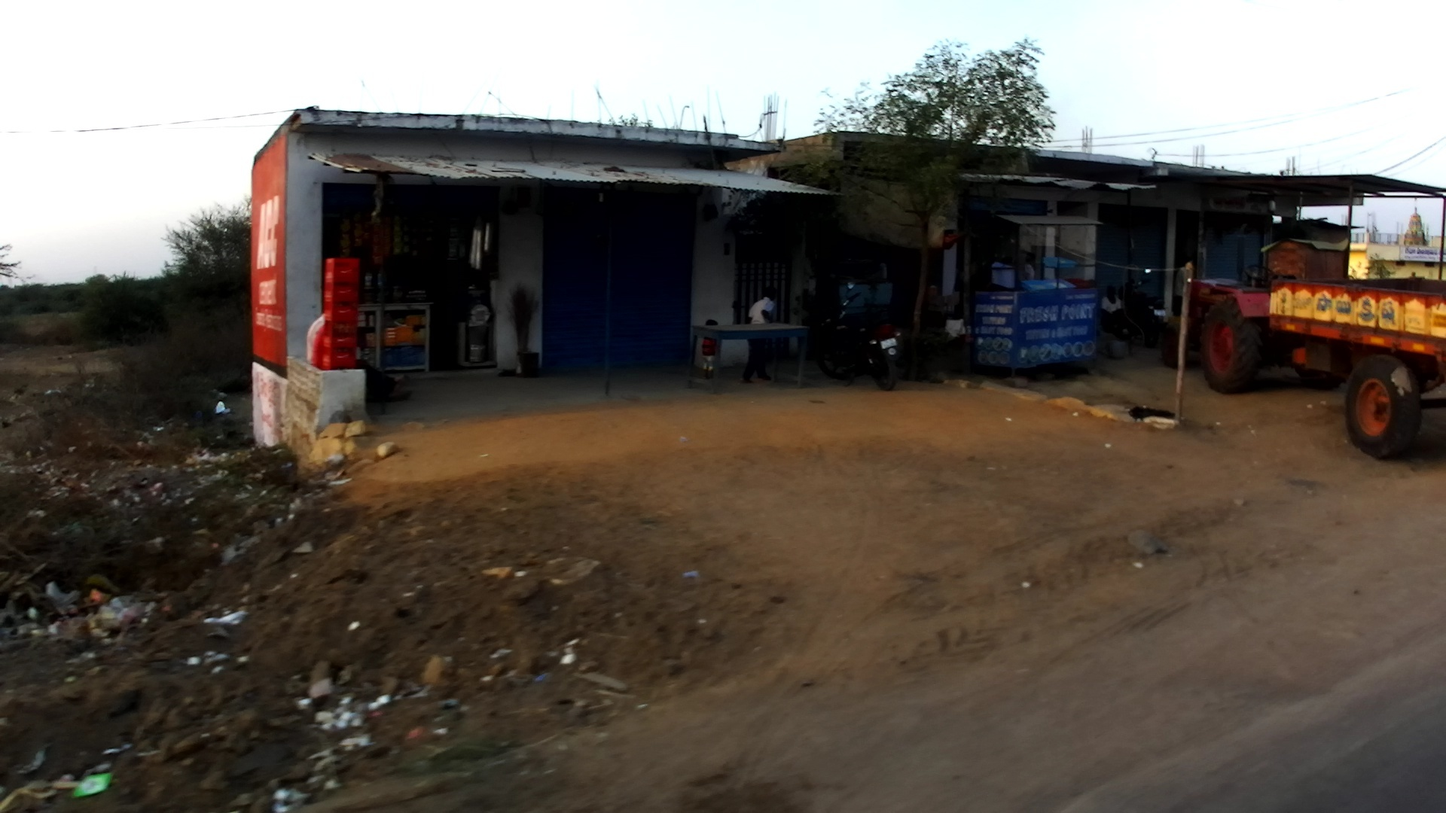motorcycle: (810, 279, 901, 391), (1125, 267, 1167, 353)
person: (305, 314, 410, 401), (739, 283, 779, 385), (1097, 284, 1123, 334), (702, 319, 719, 379), (1173, 257, 1187, 317)
vehicle fallback: (1160, 262, 1446, 460)
